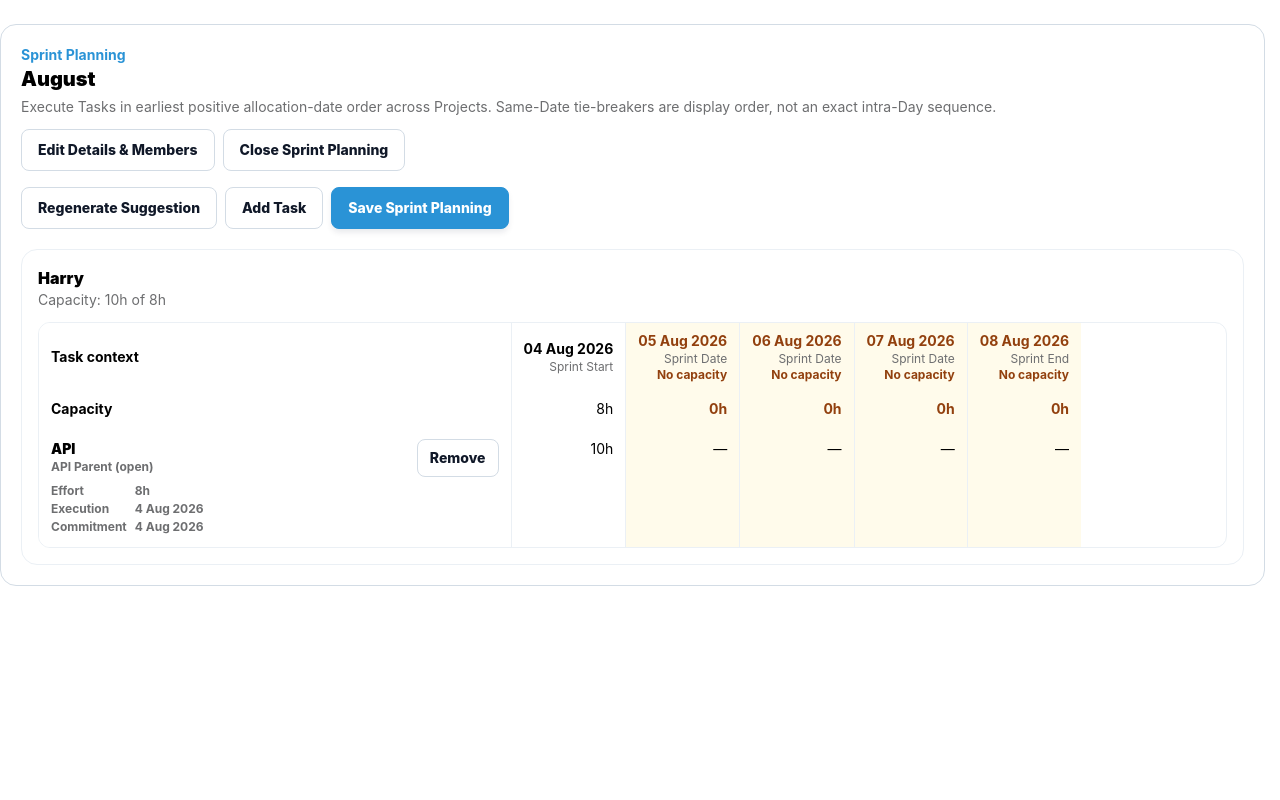
Test: SprintTaskReview › removes a Task while preserving Member capacity and the unsaved selection_SPD09_AC40To43
Expected: the cell named "Harry, API, API Parent, 04 Aug 2026, Sprint allocation: 10h" is shown, 511,427 -> 626,547
Expected: the element "Harry" shows "Capacity: 10h of 8h", 21,249 -> 1244,565
Click the button with aria-label "Remove API from Sprint".
click(458, 458)  # box 417,439 -> 498,477
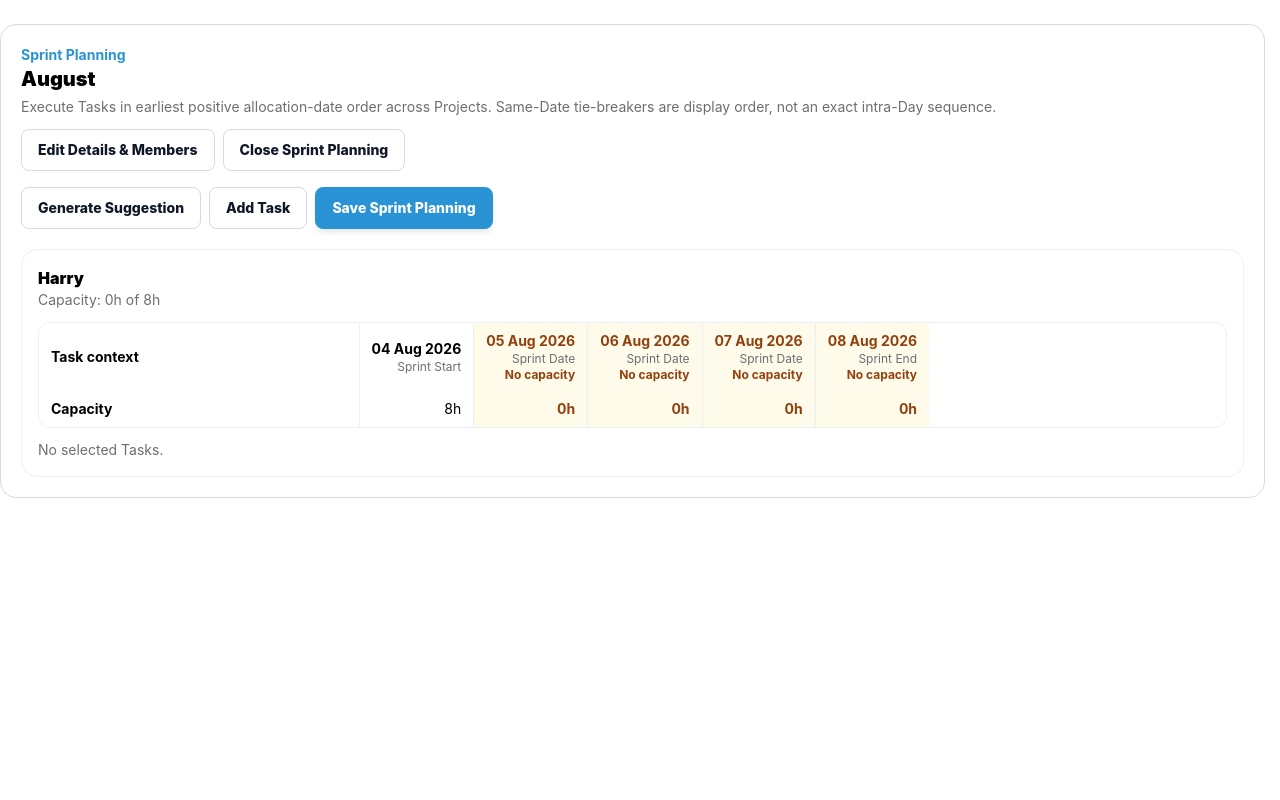
Expected: the cell named "Harry, 04 Aug 2026, Daily Capacity: 8h" is shown, 359,391 -> 474,427
Now the element "Harry" shows "Capacity: 0h of 8h", box 21,249 -> 1244,477
